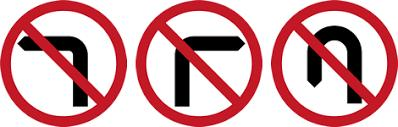no_left_turn: (0, 0, 125, 126)
no_right_turn: (134, 0, 262, 126)
no_u_turn: (270, 0, 396, 125)
